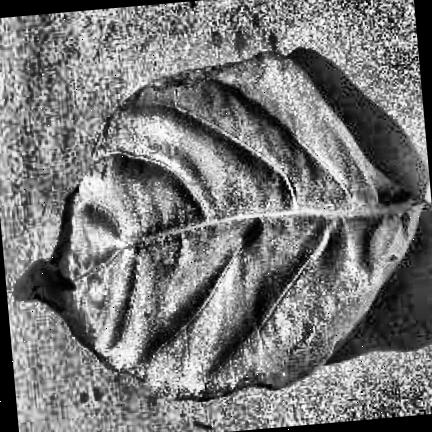leaf: (16, 52, 430, 400)
